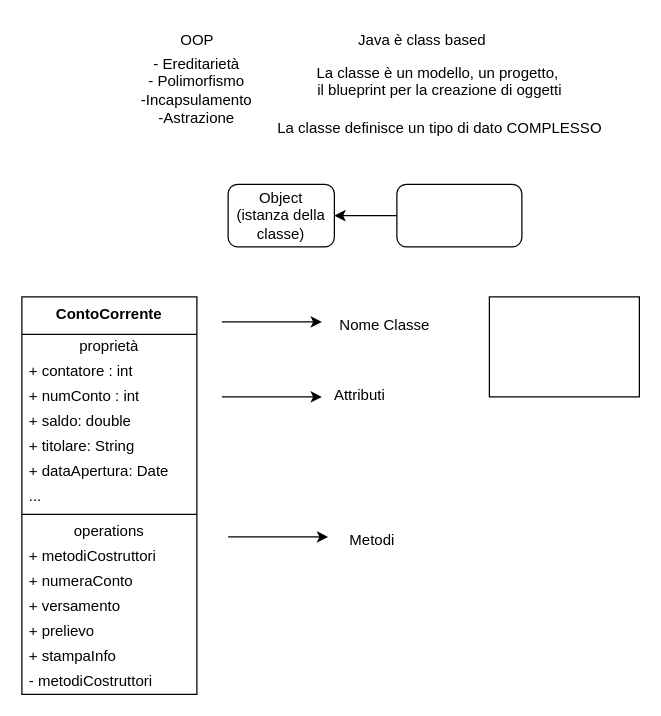
The diagram is 661 pixels wide and 716 high, and some of its shapes have lost their labels. Each missing label, with the centre of its shape:
"Class" goes at pixel 459 215.
"Notazioni: + => public - => private" goes at pixel 563 346.
